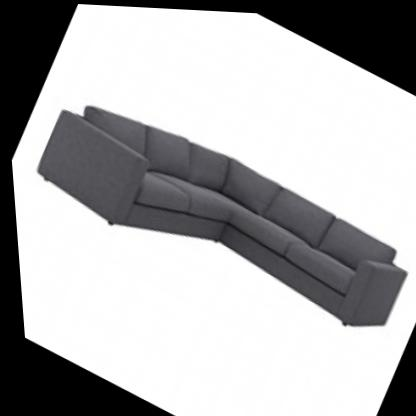Sofa: (10, 68, 416, 373)
